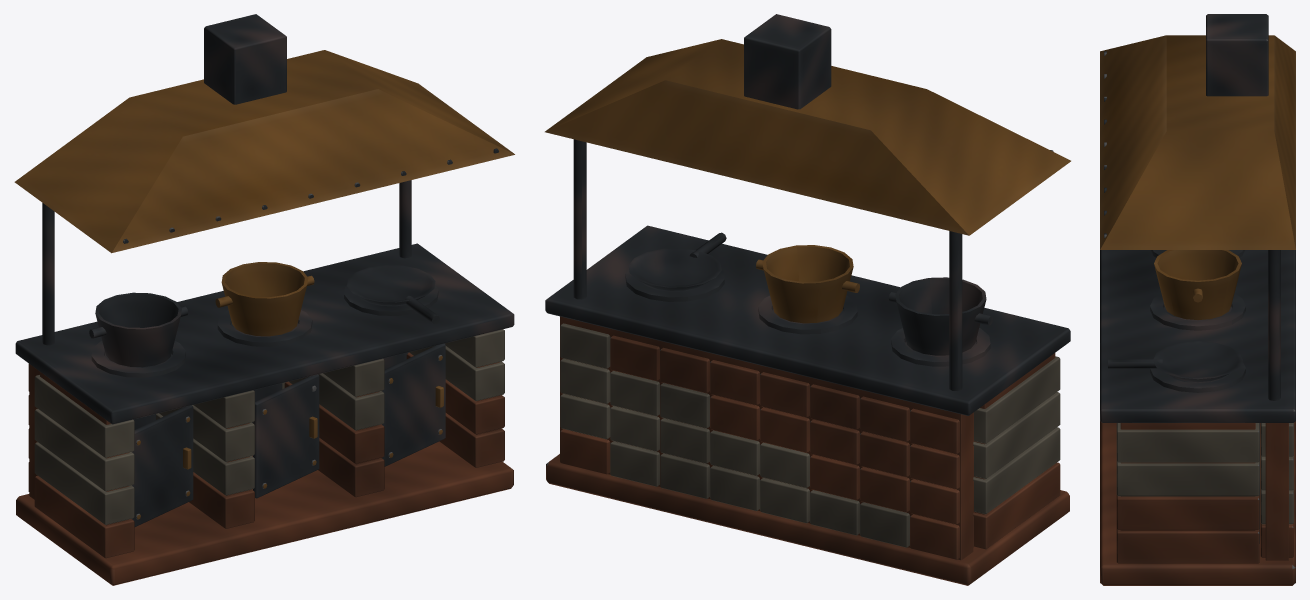
The model's file is Furn_Cook_Stove.fbx.
The picture shows the model from 3 angles, left to right: view 1: azimuth 30°, elevation 25°; view 2: azimuth 150°, elevation 25°; view 3: azimuth 270°, elevation 25°; orthographic projection. The views are drawn at different scales.
Parts seen in each view (by area): view 1: Furn_Cook_Stove; view 2: Furn_Cook_Stove; view 3: Furn_Cook_Stove.
Part boxes in pixels (<box>): Furn_Cook_Stove: <box>14,14,514,585</box>; Furn_Cook_Stove: <box>545,14,1070,585</box>; Furn_Cook_Stove: <box>1100,14,1295,585</box>.
Bounding box in the file's own units: 2.4 × 2.6 × 1.
3 materials, 3 textured.
